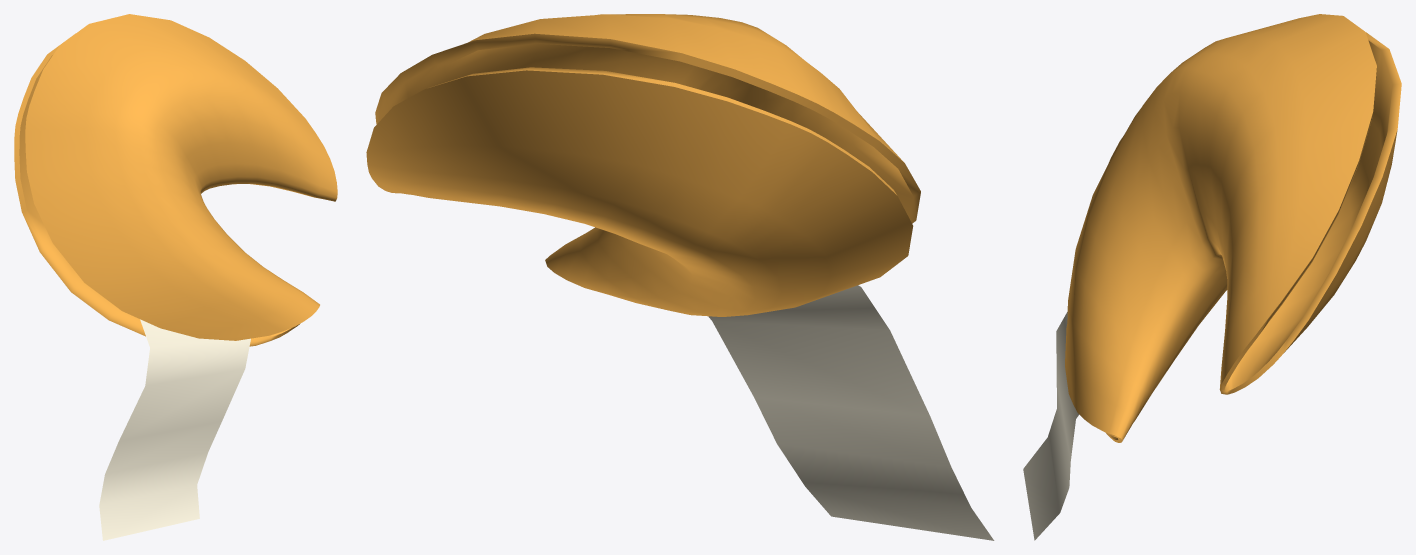
Rendered from fortune_cookie.glb.
3 views of the same model, side by side, from view 1: azimuth 30°, elevation 25°; view 2: azimuth 150°, elevation 25°; view 3: azimuth 270°, elevation 25° (orthographic). The views are drawn at different scales.
Visible parts, largest first — view 1: Plane.218; view 2: Plane.218; view 3: Plane.218.
Boxes of the visible parts, x1,y1,x2,y2 form: Plane.218: (14,14,337,540); Plane.218: (366,14,994,540); Plane.218: (1023,14,1401,540).
Bounding box in the file's own units: 1.89 × 2.23 × 1.47.
Materials: 1 (1 with a texture image).
